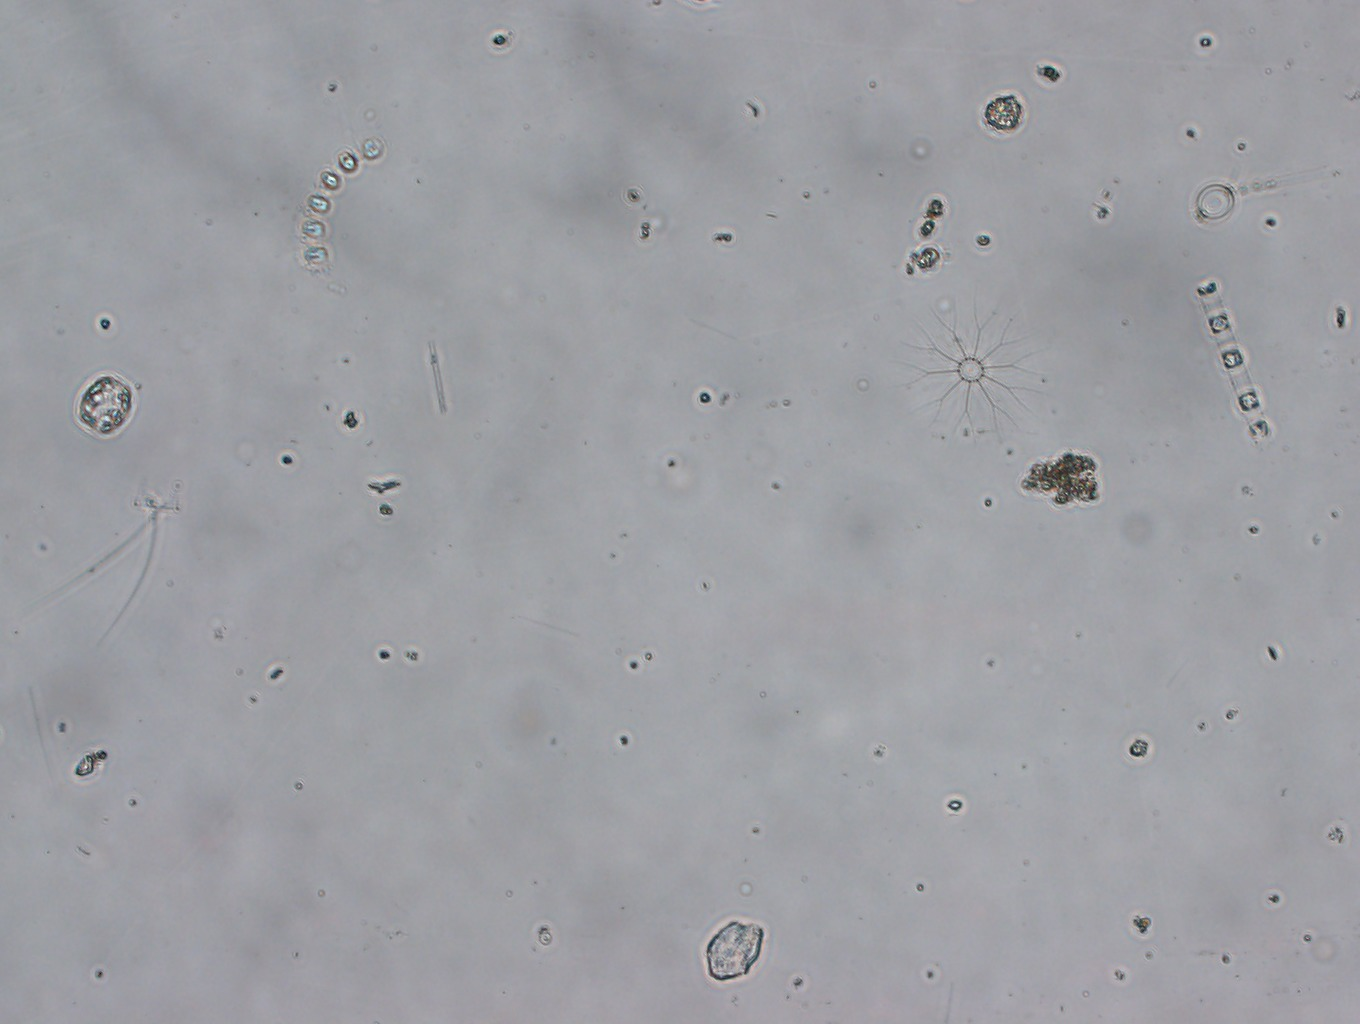bacteriastrum: (897, 295, 1044, 449)
skeletonema: (1196, 275, 1278, 451), (298, 134, 389, 278)
